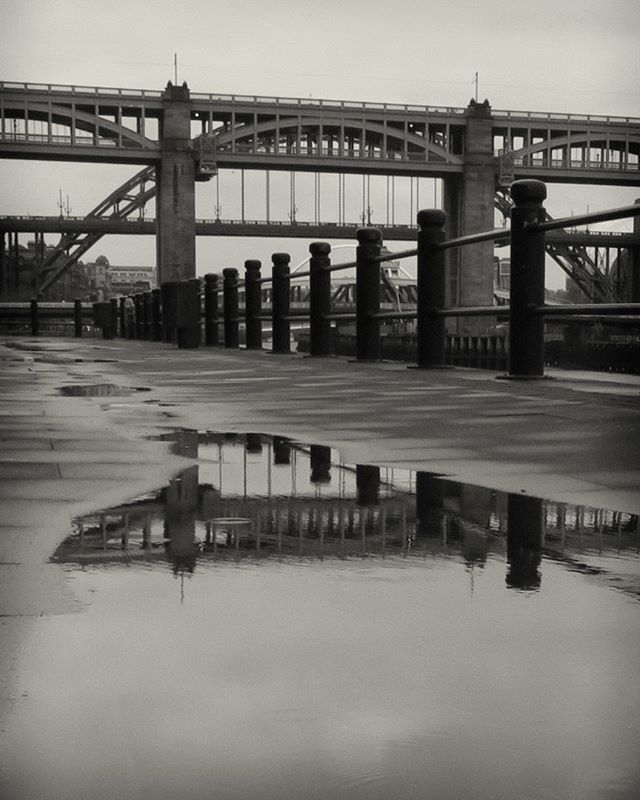bridge: (12, 77, 640, 320)
sky: (12, 1, 640, 111)
